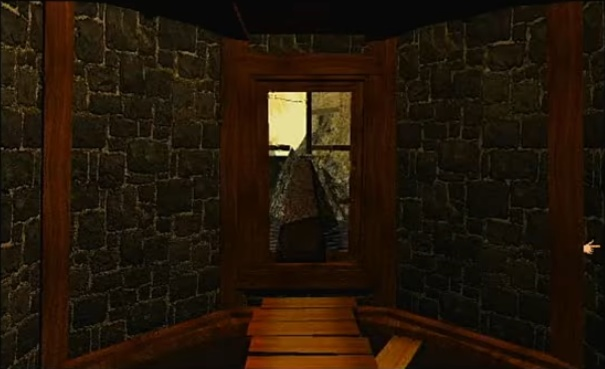Pointer: (581, 236, 603, 256)
